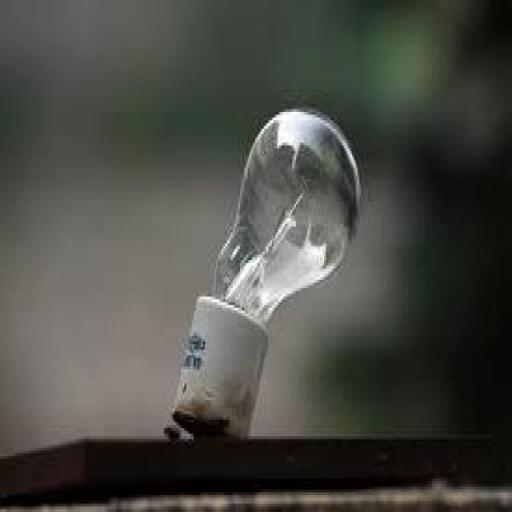glass: (210, 108, 360, 322)
